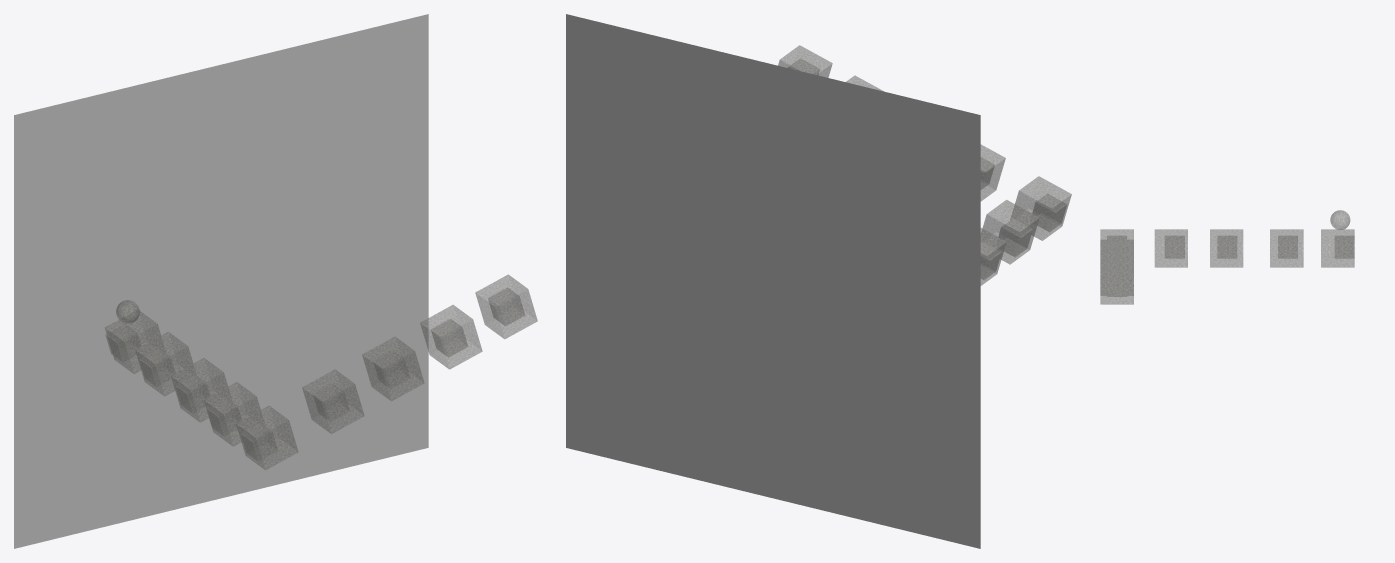
The model's file is app10.fbx.
3 renders of one model, left to right at view 1: azimuth 30°, elevation 25°; view 2: azimuth 150°, elevation 25°; view 3: azimuth 270°, elevation 25°, orthographic. The views are drawn at different scales.
Visible parts, largest first — view 1: Plane, Cube_5, Cube_9, Cube_7, Cube_6, Cube_8, Cube_2, Cube_4, Cube_3, Cube_1, Cube_14, Cube_12 (+7 smaller); view 2: Plane, Cube_5, Cube_4, Cube_3, Cube_9, Cube_6, Cube_14, Cube_15; view 3: Cube_9, Cube_2, Cube_1, Cube_4, Cube_3, Cube_8, Cube_5, Cube_6, Cube_18, Cube_17, Cube_16, Cube_15 (+2 smaller).
Boxes of the visible parts, x1=… form: Plane: x1=14, y1=14, x2=428, y2=548; Cube_5: x1=236, y1=405, x2=298, y2=470; Cube_9: x1=475, y1=274, x2=537, y2=338; Cube_7: x1=362, y1=336, x2=424, y2=401; Cube_6: x1=302, y1=369, x2=364, y2=433; Cube_8: x1=420, y1=305, x2=482, y2=369; Cube_2: x1=135, y1=332, x2=196, y2=396; Cube_4: x1=204, y1=382, x2=264, y2=446; Cube_3: x1=171, y1=358, x2=232, y2=422; Cube_1: x1=105, y1=310, x2=165, y2=373; Cube_14: x1=241, y1=423, x2=277, y2=461; Cube_12: x1=373, y1=350, x2=410, y2=388; Plane: x1=566, y1=14, x2=980, y2=548; Cube_5: x1=1010, y1=176, x2=1071, y2=240; Cube_4: x1=981, y1=200, x2=1039, y2=264; Cube_3: x1=980, y1=228, x2=1006, y2=285; Cube_9: x1=778, y1=45, x2=832, y2=77; Cube_6: x1=980, y1=144, x2=1005, y2=201; Cube_14: x1=1032, y1=193, x2=1066, y2=232; Cube_15: x1=998, y1=219, x2=1032, y2=257; Cube_9: x1=1100, y1=266, x2=1133, y2=304; Cube_2: x1=1270, y1=229, x2=1303, y2=267; Cube_1: x1=1321, y1=229, x2=1354, y2=267; Cube_4: x1=1154, y1=229, x2=1187, y2=267; Cube_3: x1=1210, y1=229, x2=1243, y2=267; Cube_8: x1=1100, y1=258, x2=1133, y2=295; Cube_5: x1=1100, y1=229, x2=1133, y2=248; Cube_6: x1=1100, y1=239, x2=1133, y2=257; Cube_18: x1=1335, y1=236, x2=1354, y2=258; Cube_17: x1=1278, y1=236, x2=1297, y2=258; Cube_16: x1=1217, y1=236, x2=1236, y2=258; Cube_15: x1=1165, y1=236, x2=1184, y2=258.
Size of the model in its own units: 240 by 240 by 167.
